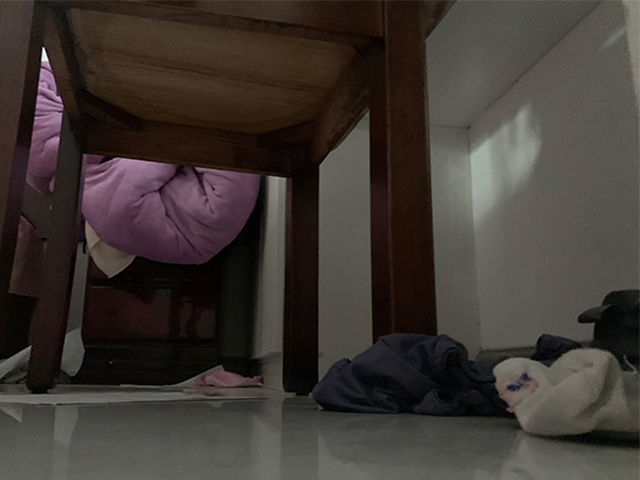socks: (492, 347, 640, 440)
stool: (1, 1, 459, 396)
